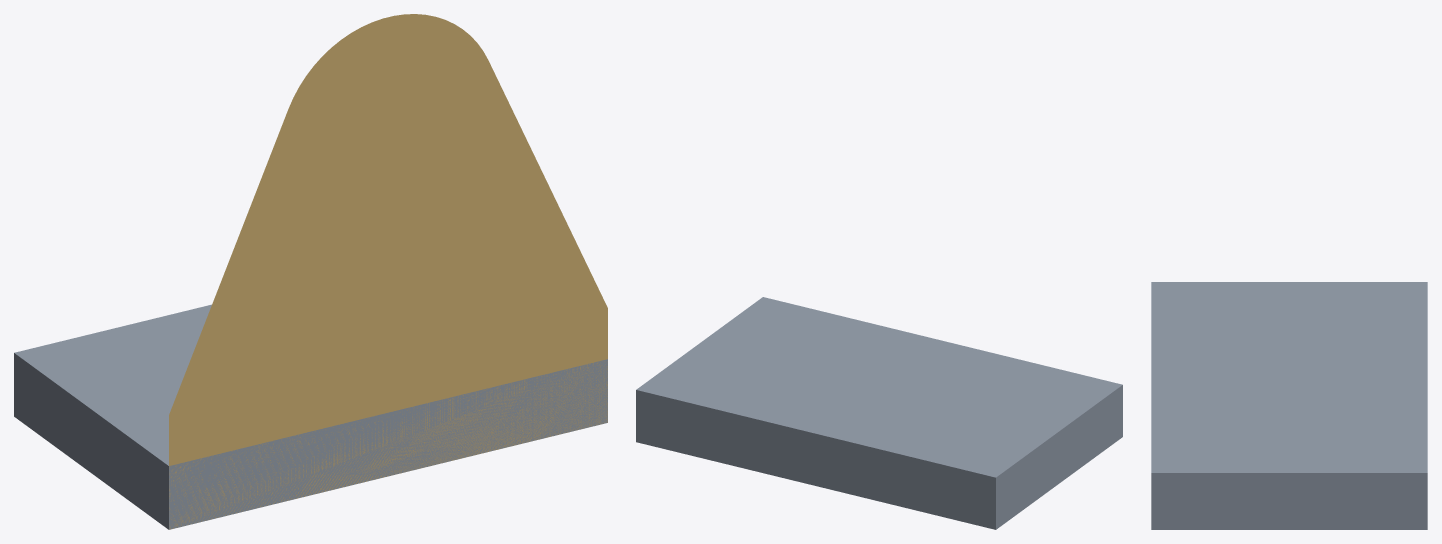
File: step_03.glb
The picture shows the model from 3 angles, left to right: view 1: azimuth 30°, elevation 25°; view 2: azimuth 150°, elevation 25°; view 3: azimuth 270°, elevation 25°; orthographic projection. The views are drawn at different scales.
Parts seen in each view (by area): view 1: overlay, part__fork bracket; view 2: part__fork bracket; view 3: part__fork bracket.
Boxes of the visible parts, left/top/right/bottom form: overlay: left=169, top=14, right=607, bottom=529; part__fork bracket: left=14, top=304, right=607, bottom=529; part__fork bracket: left=636, top=297, right=1122, bottom=529; part__fork bracket: left=1151, top=282, right=1427, bottom=529.
Bounding box in the file's own units: 72 × 71.98 × 44.
